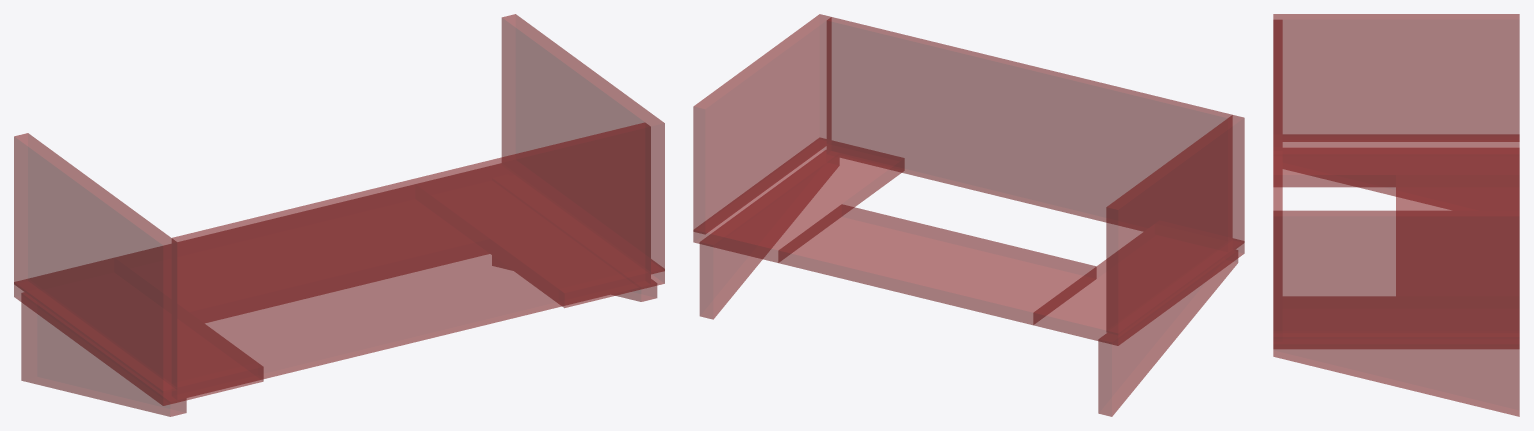
File: SM_Bld_FireEscape_01_Collision.fbx
3 renders of one model, left to right at view 1: azimuth 30°, elevation 25°; view 2: azimuth 150°, elevation 25°; view 3: azimuth 270°, elevation 25°, orthographic. The views are drawn at different scales.
Visible parts, largest first — view 1: SM_Bld_FireEscape_01_Collision; view 2: SM_Bld_FireEscape_01_Collision; view 3: SM_Bld_FireEscape_01_Collision.
Part boxes in pixels (x1,y1,x2,y2): SM_Bld_FireEscape_01_Collision: [14, 14, 664, 416]; SM_Bld_FireEscape_01_Collision: [693, 14, 1244, 416]; SM_Bld_FireEscape_01_Collision: [1273, 14, 1519, 416].
Size of the model in its own units: 318 by 149 by 164.
